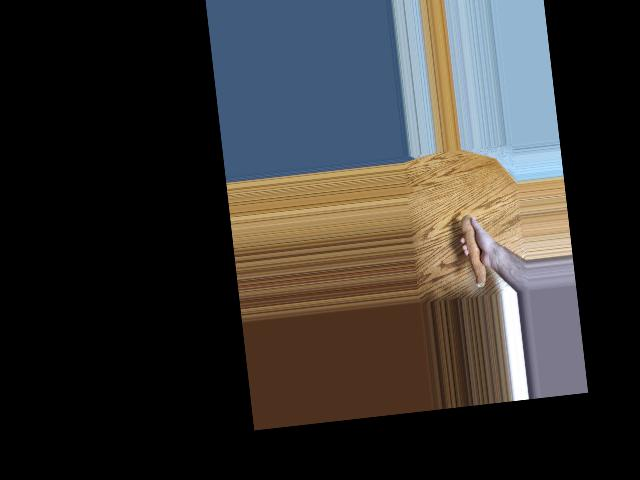sweet_potato: (457, 214, 489, 288)
